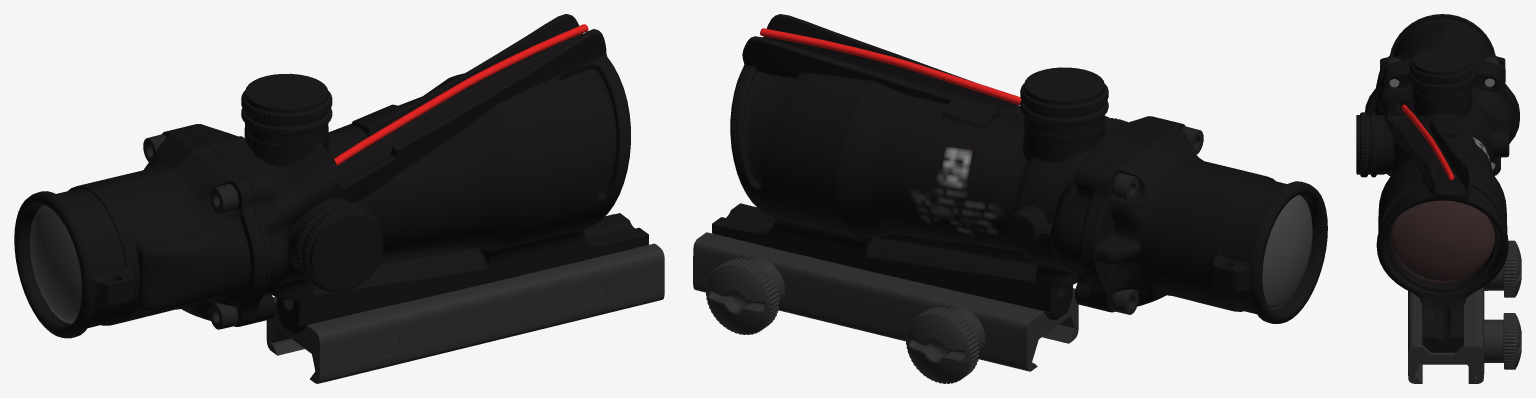
File: acog_sight.6e092b9bb1.glb
The picture shows the model from 3 angles, left to right: view 1: azimuth 30°, elevation 25°; view 2: azimuth 150°, elevation 25°; view 3: azimuth 270°, elevation 25°; orthographic projection. The views are drawn at different scales.
Parts seen in each view (by area): view 1: acog_sight; view 2: acog_sight; view 3: acog_sight.
Boxes of the visible parts, <box> form: acog_sight: <box>14,14,664,383</box>; acog_sight: <box>693,14,1327,383</box>; acog_sight: <box>1356,14,1521,383</box>.
Size of the model in its own units: 0.1433 by 0.0671 by 0.0484.
1 material, 1 textured.
